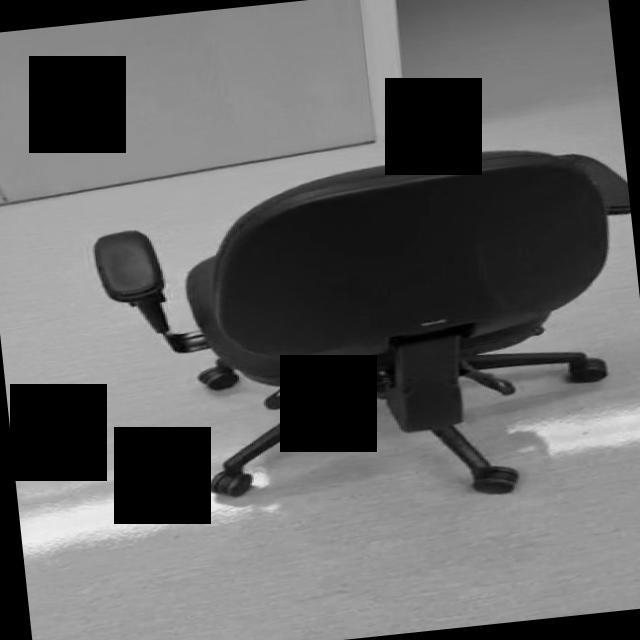chair: (85, 135, 640, 530)
